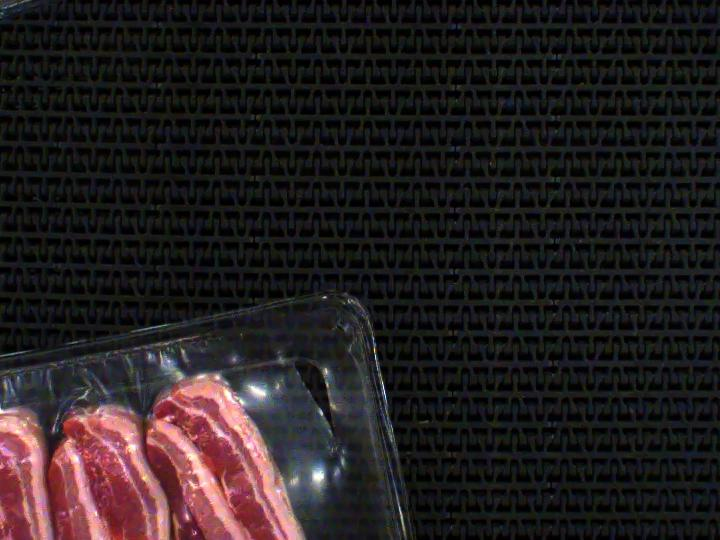unsealed: (0, 323, 413, 540)
